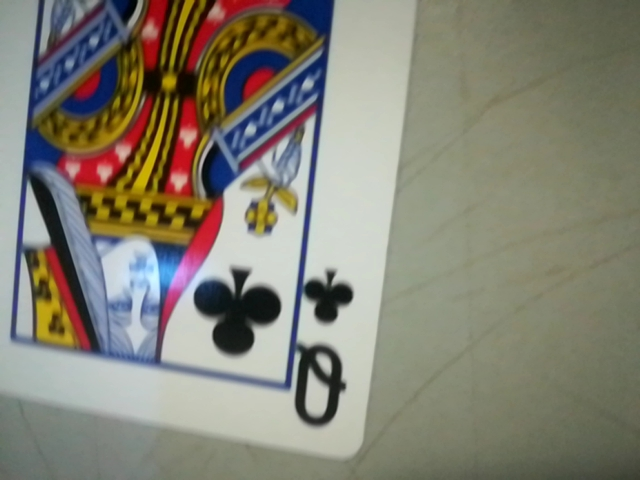mh q: (285, 260, 367, 445)
